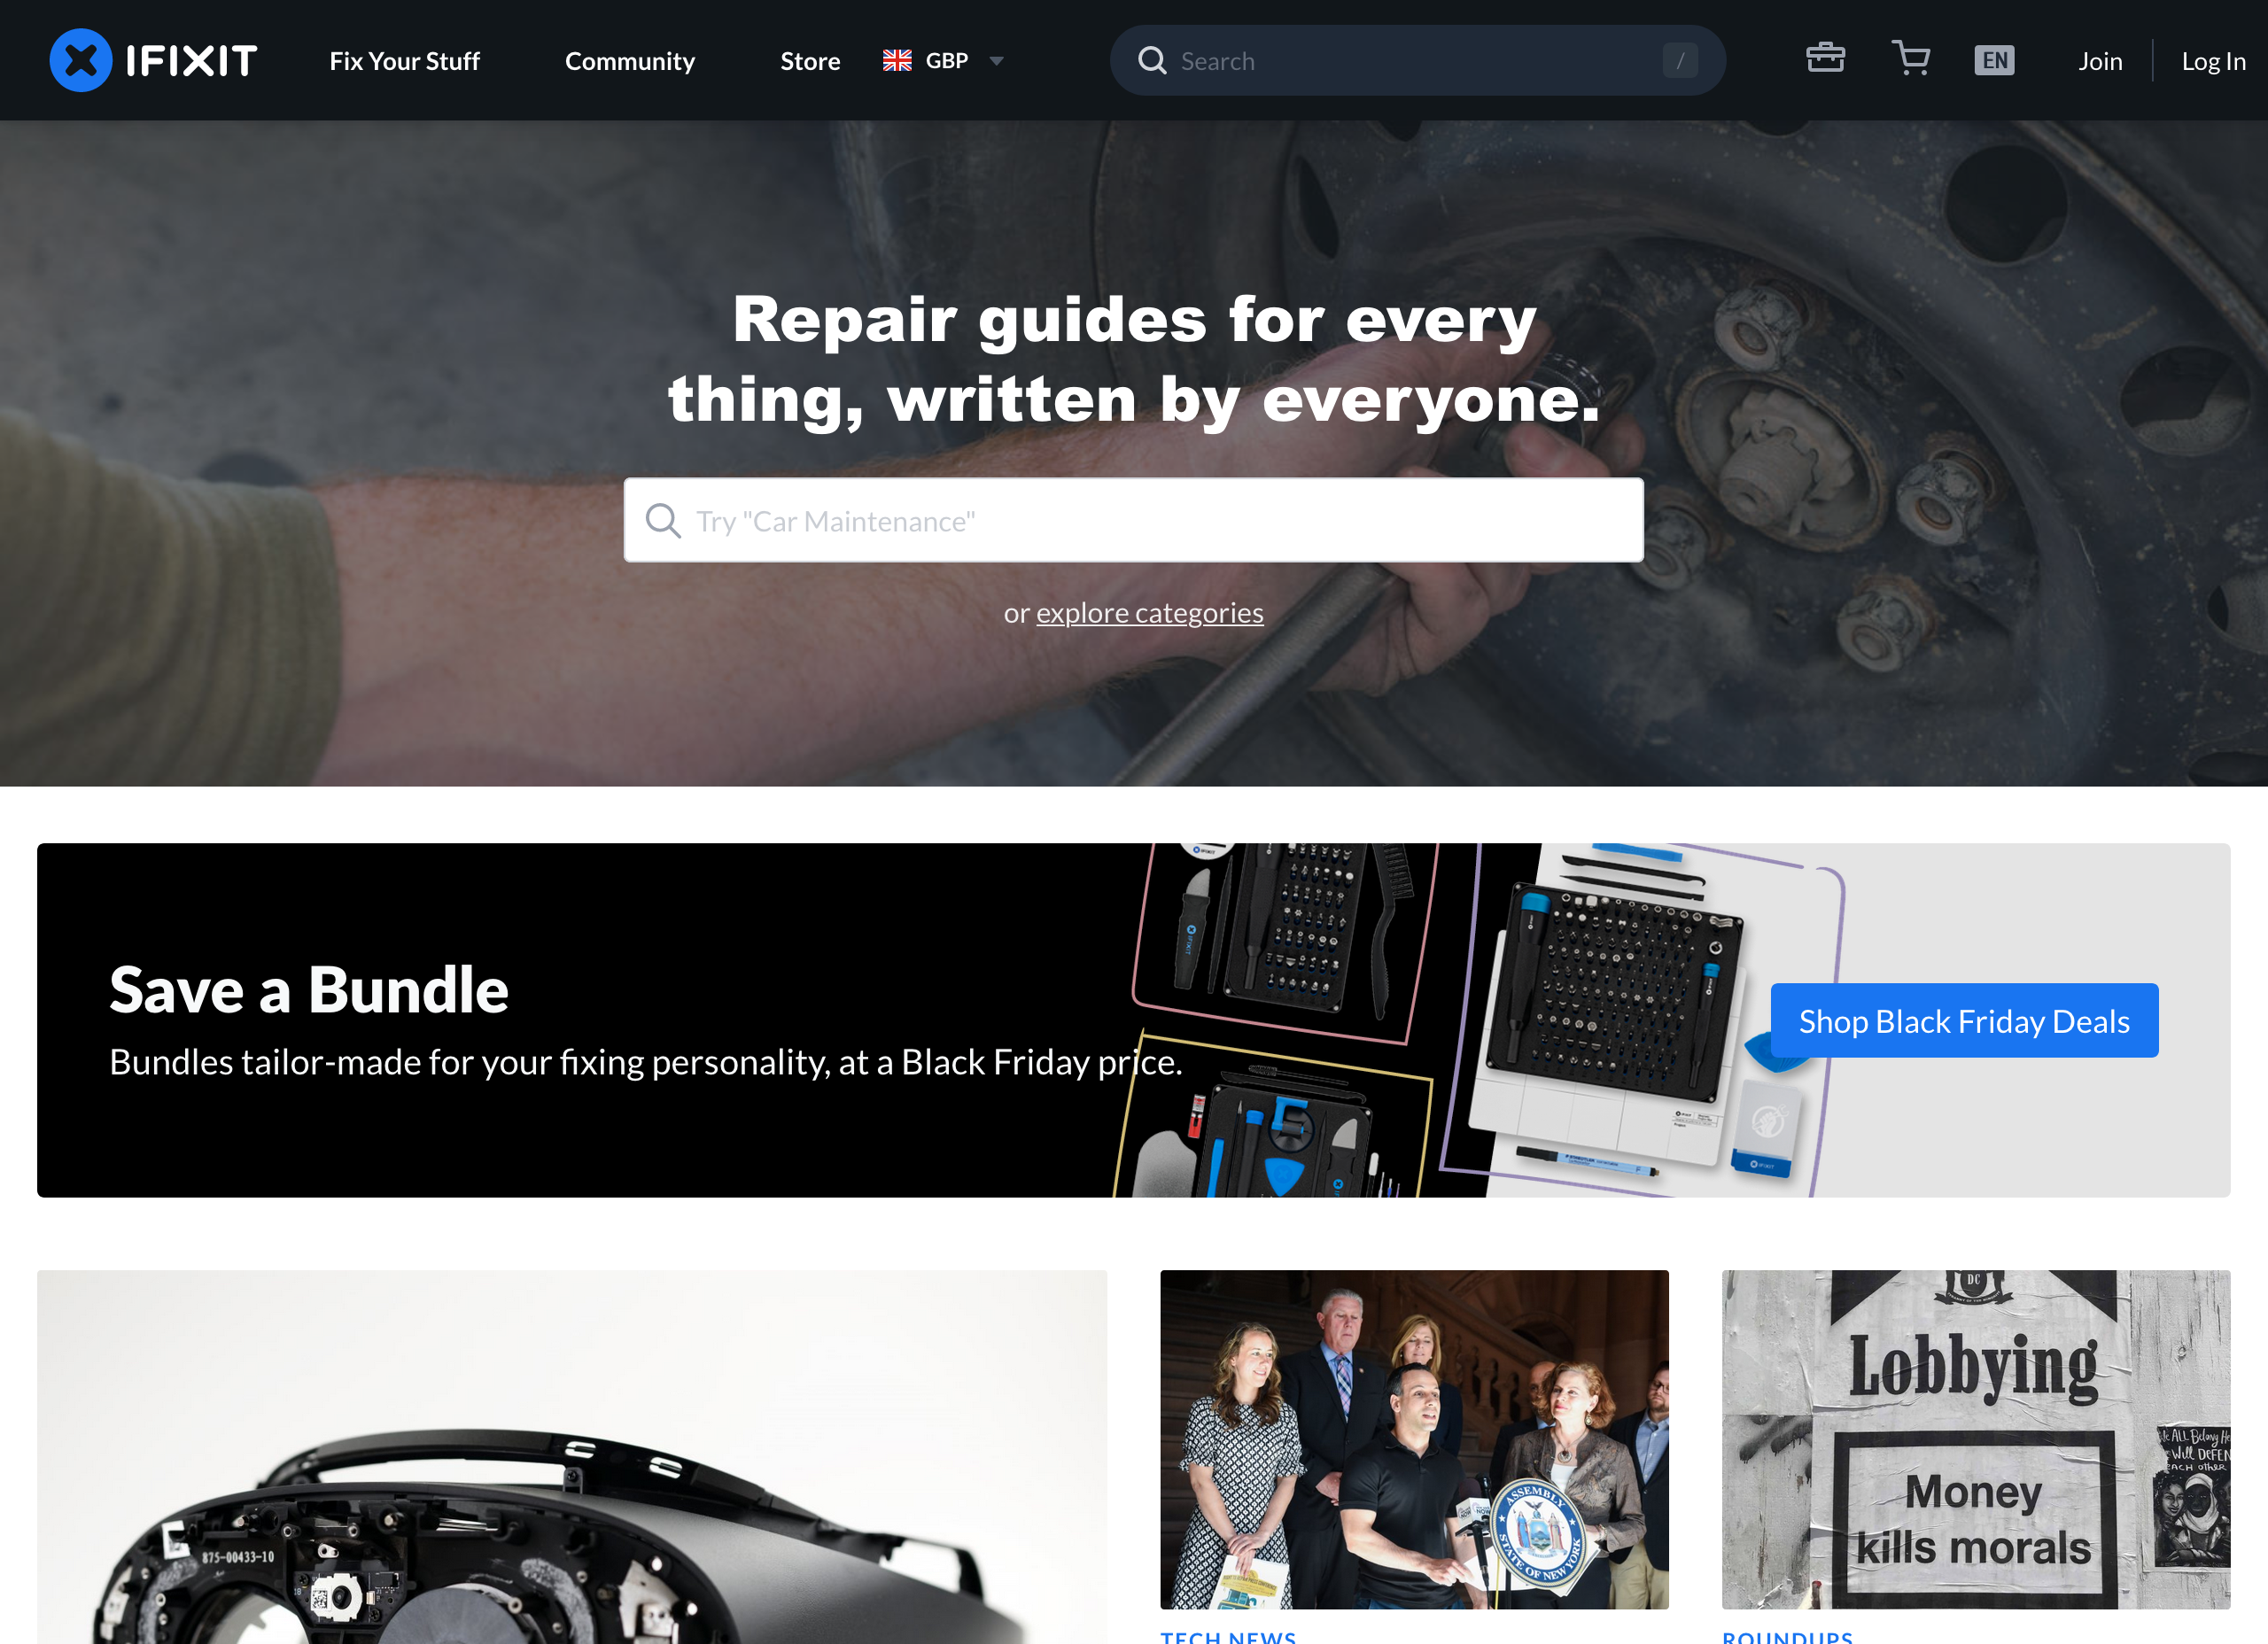Login: (2171, 37, 2254, 84)
